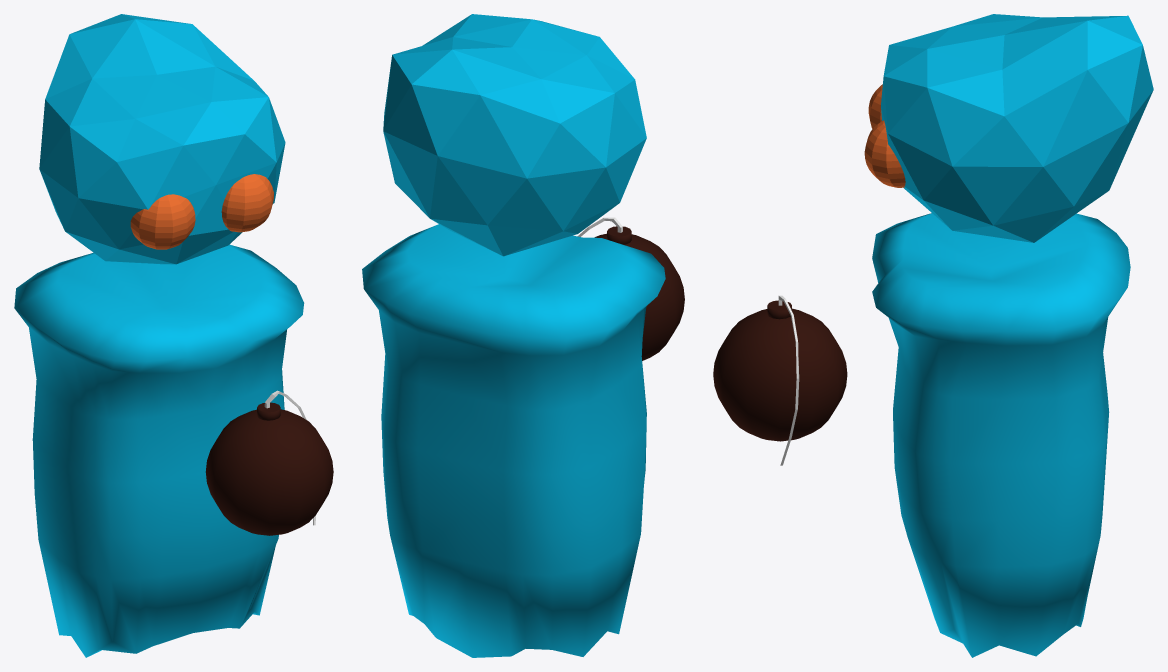
File: BomberEnemy.fbx
The picture shows the model from 3 angles, left to right: view 1: azimuth 30°, elevation 25°; view 2: azimuth 150°, elevation 25°; view 3: azimuth 270°, elevation 25°; orthographic projection. The views are drawn at different scales.
Parts seen in each view (by area): view 1: Icosphere.003, Sphere.004, Sphere.003; view 2: Icosphere.003, Sphere.004; view 3: Icosphere.003, Sphere.004, Sphere.003.
Boxes of the visible parts, left/top/right/bottom form: Icosphere.003: left=14, top=14, right=304, bottom=657; Sphere.004: left=205, top=409, right=333, bottom=535; Sphere.003: left=130, top=174, right=273, bottom=249; Icosphere.003: left=362, top=14, right=665, bottom=657; Sphere.004: left=594, top=233, right=684, bottom=360; Icosphere.003: left=872, top=14, right=1153, bottom=657; Sphere.004: left=713, top=308, right=847, bottom=441; Sphere.003: left=864, top=84, right=905, bottom=187.
Size of the model in its own units: 65.4 by 150 by 98.93.
